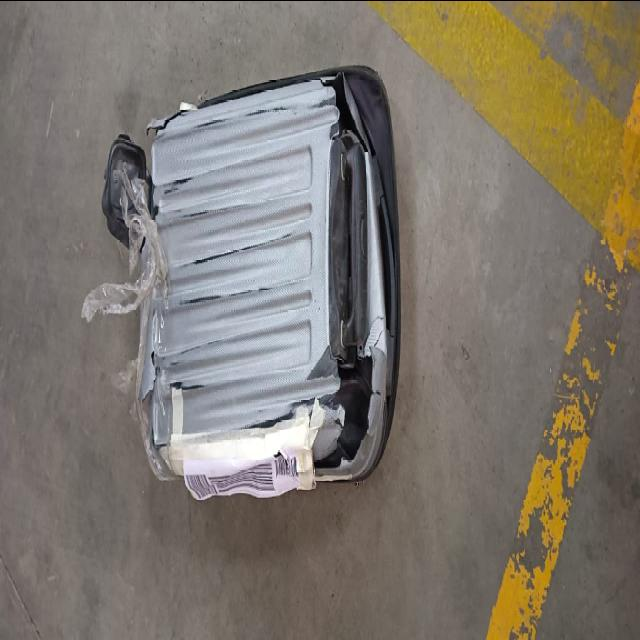Damage-bag: (82, 65, 399, 498), (146, 101, 190, 154)
